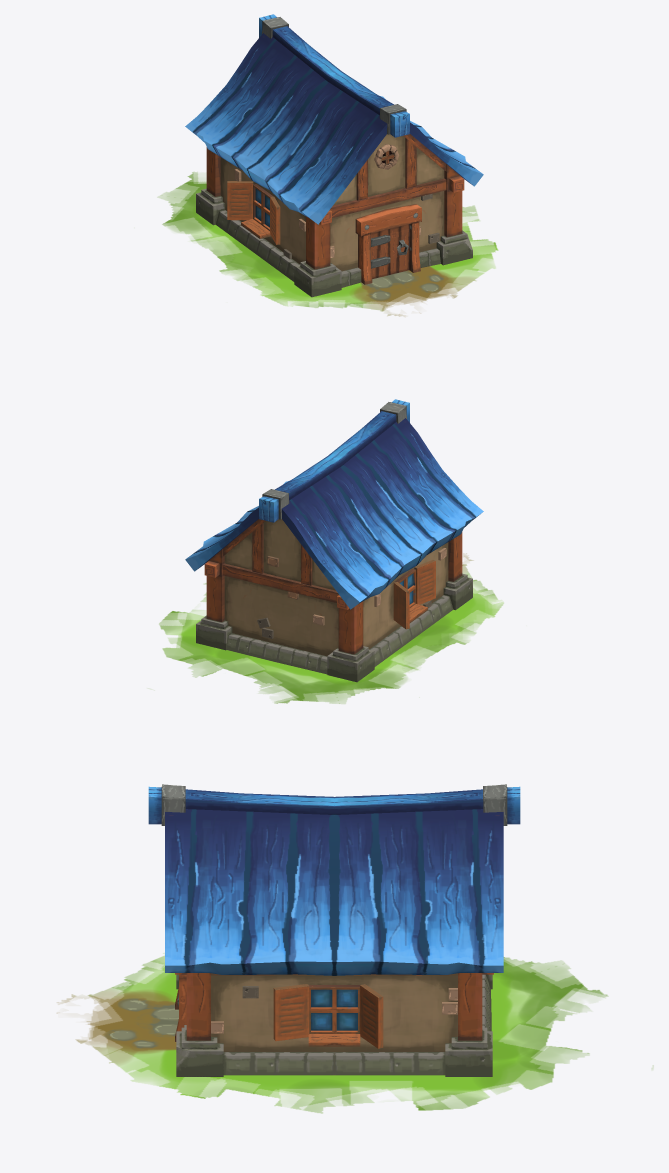
File: house.glb
3 views of the same model, one above another, from view 1: azimuth 30°, elevation 25°; view 2: azimuth 150°, elevation 25°; view 3: azimuth 270°, elevation 25° (orthographic). The views are drawn at different scales.
Visible parts, largest first — view 1: Object_5, Object_3; view 2: Object_5, Object_3; view 3: Object_5, Object_3.
Part boxes in pixels (box(x1,y1,x2,y2)): Object_5: box(185, 14, 483, 297); Object_3: box(157, 172, 498, 316); Object_5: box(185, 399, 483, 682); Object_3: box(159, 553, 503, 703); Object_5: box(148, 784, 520, 1076); Object_3: box(57, 953, 653, 1113).
Size of the model in its own units: 2.5 by 1 by 2.5.
Materials: 2 (2 with a texture image).
